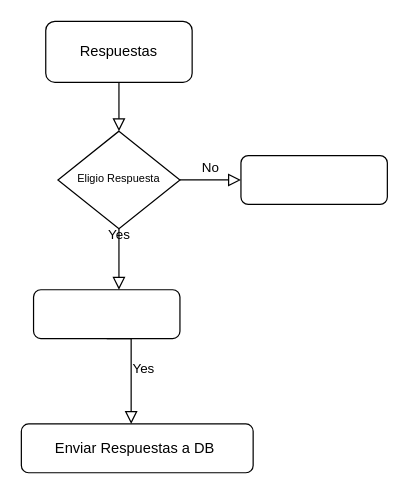
Image size: 409x494. Some labels were removed from this diagram. Each missing label, with the centre of its shape:
"Mostrar Siguiente Pregunta" goes at (x=106, y=314).
"No aparece Boton Siguiente" goes at (x=313, y=179).
